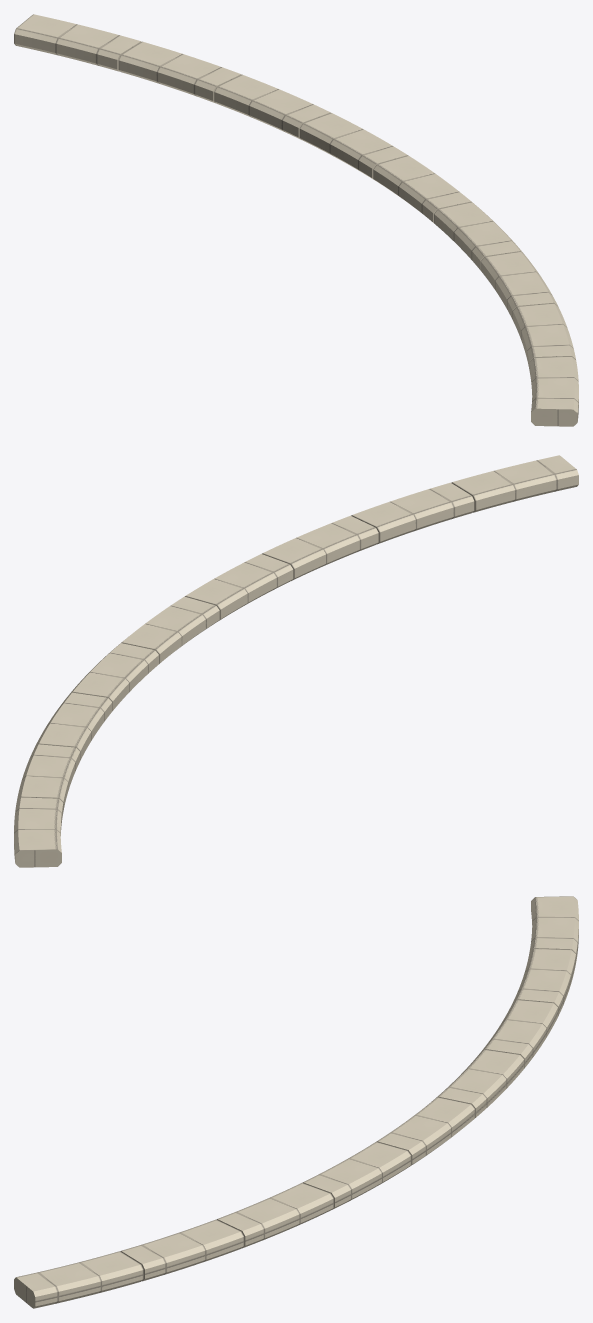
The model's file is ENV_Plaza_Border_Coping_Arc66.obj.
3 renders of one model, top to bottom at view 1: azimuth 30°, elevation 25°; view 2: azimuth 150°, elevation 25°; view 3: azimuth 330°, elevation 25°, orthographic.
Parts seen in each view (by area): view 1: ENV_Plaza_Border_Coping_Arc66; view 2: ENV_Plaza_Border_Coping_Arc66; view 3: ENV_Plaza_Border_Coping_Arc66.
Part boxes in pixels (bbox=[...]): ENV_Plaza_Border_Coping_Arc66: bbox=[14, 14, 578, 426]; ENV_Plaza_Border_Coping_Arc66: bbox=[14, 455, 578, 867]; ENV_Plaza_Border_Coping_Arc66: bbox=[14, 896, 578, 1308].
Size of the model in its own units: 1.62 by 0.155 by 8.82.
Materials: 1 (1 with a texture image).
